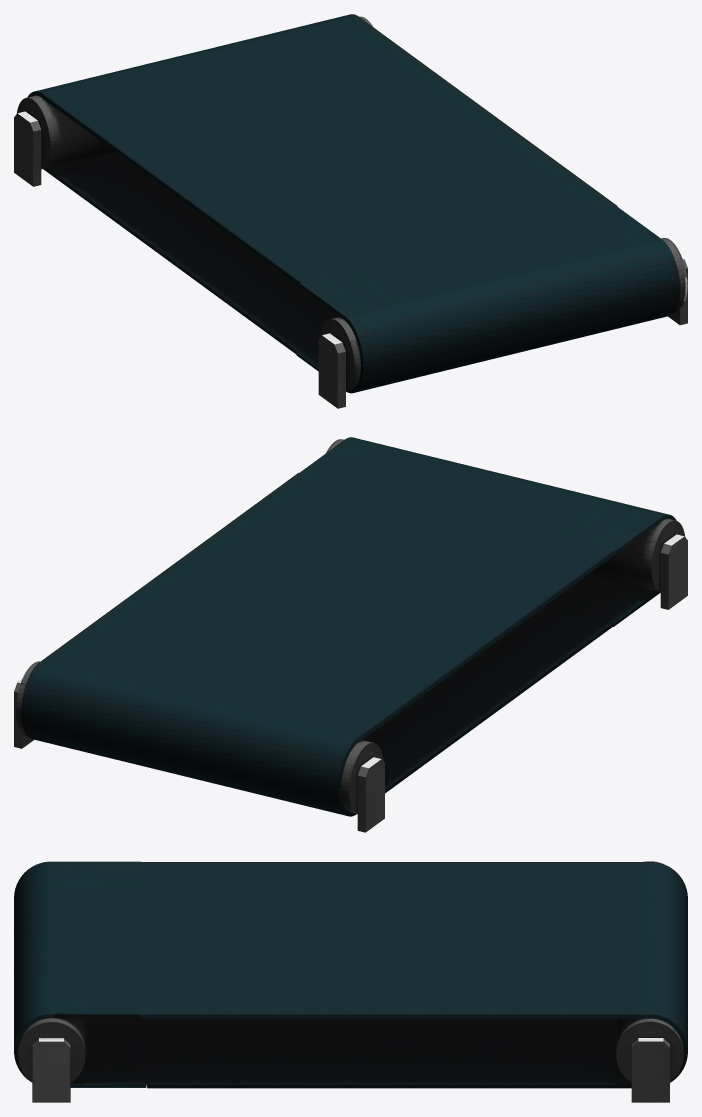
3 views of the same model, one above another, from view 1: azimuth 30°, elevation 25°; view 2: azimuth 150°, elevation 25°; view 3: azimuth 270°, elevation 25° (orthographic).
Parts seen in each view (by area): view 1: Cylinder; view 2: Cylinder; view 3: Cylinder.
Boxes of the visible parts, x1,y1,x2,y2 form: Cylinder: (14, 14, 687, 408); Cylinder: (14, 437, 687, 832); Cylinder: (14, 861, 687, 1102).
Size of the model in its own units: 11.88 by 20 by 2.64.
Materials: 1 (1 with a texture image).
